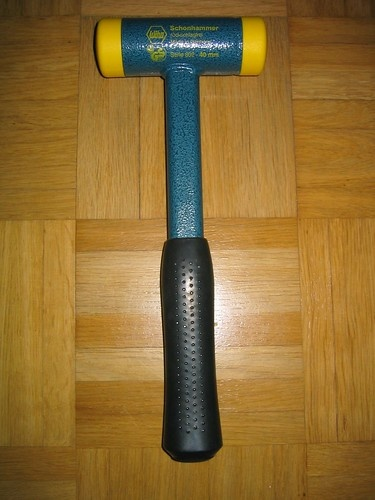hammer: (93, 15, 273, 465)
